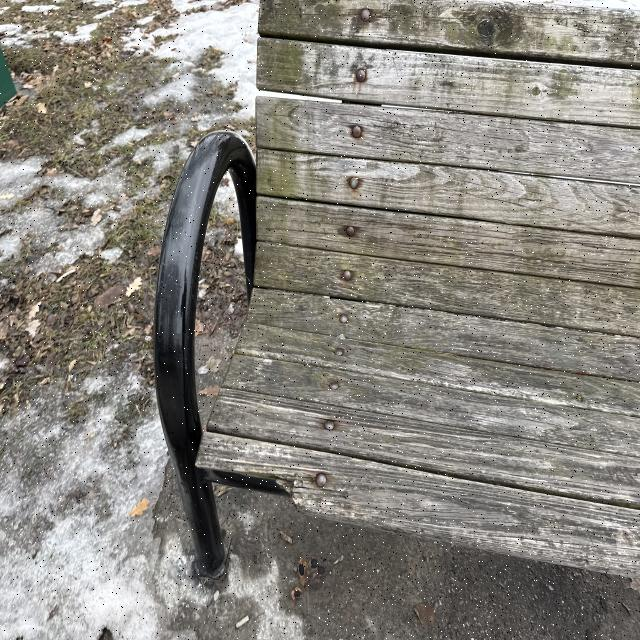Bench: (147, 17, 637, 577)
